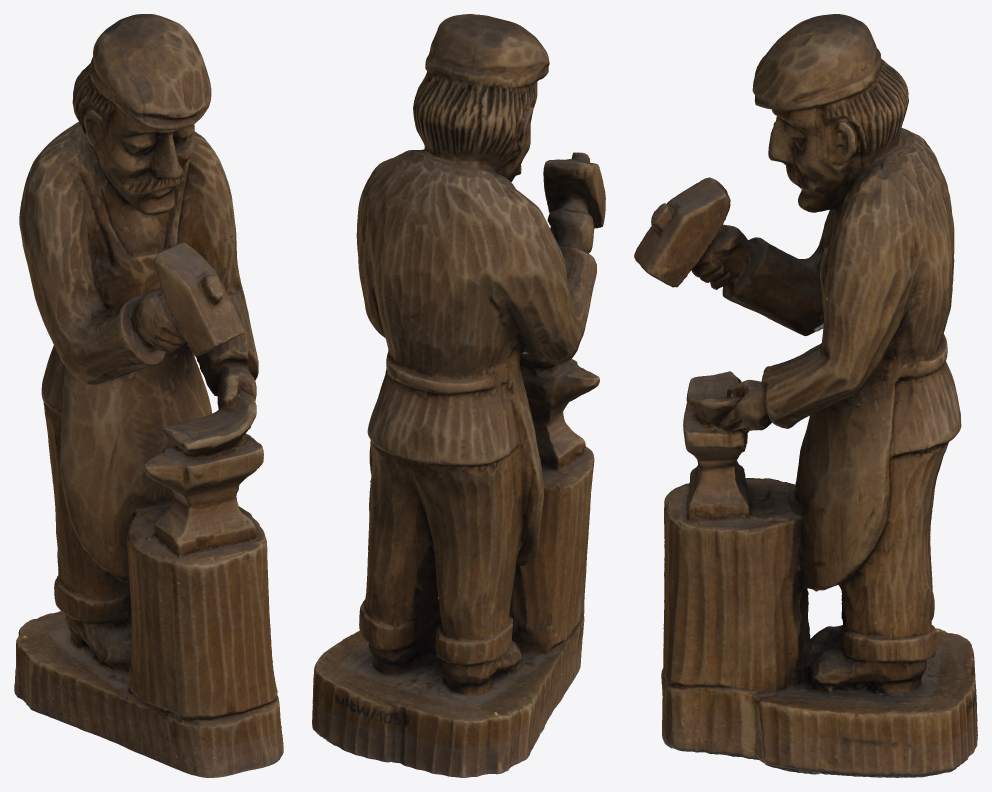
File: MPL_W_E_865_lowpoly.glb
3 views of the same model, side by side, from view 1: azimuth 30°, elevation 25°; view 2: azimuth 150°, elevation 25°; view 3: azimuth 270°, elevation 25° (orthographic).
Parts seen in each view (by area): view 1: MPL_W_E_865_lowpoly; view 2: MPL_W_E_865_lowpoly; view 3: MPL_W_E_865_lowpoly.
Boxes of the visible parts, x1=… form: MPL_W_E_865_lowpoly: x1=14, y1=14, x2=283, y2=777; MPL_W_E_865_lowpoly: x1=312, y1=14, x2=605, y2=777; MPL_W_E_865_lowpoly: x1=634, y1=14, x2=977, y2=777.
Bounding box in the file's own units: 0.0864 × 0.2673 × 0.1191.
Materials: 1 (1 with a texture image).
